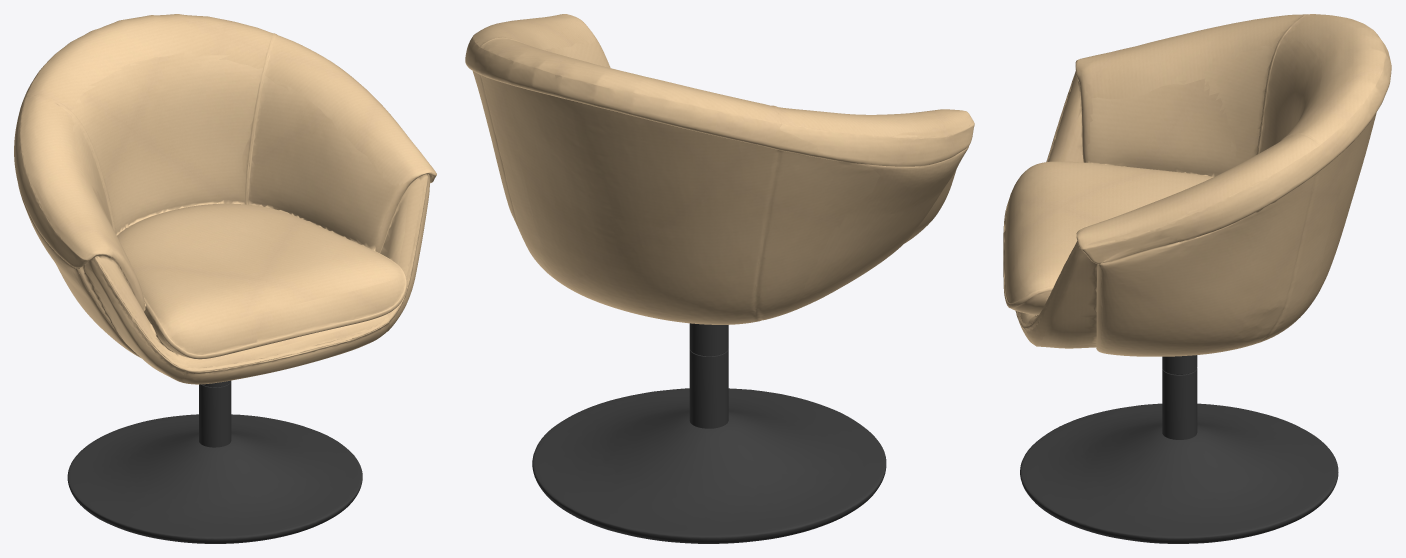
File: St_Hilker_Body_and_Soul.glb
3 renders of one model, left to right at view 1: azimuth 30°, elevation 25°; view 2: azimuth 150°, elevation 25°; view 3: azimuth 270°, elevation 25°, orthographic. The views are drawn at different scales.
Visible parts, largest first — view 1: Body and Soul .002; view 2: Body and Soul .002; view 3: Body and Soul .002.
Part boxes in pixels (x1,y1,x2,y2): Body and Soul .002: [14, 14, 436, 543]; Body and Soul .002: [465, 14, 974, 543]; Body and Soul .002: [1003, 14, 1391, 543].
Size of the model in its own units: 0.9273 by 0.979 by 0.8019.
2 materials, 1 textured.
